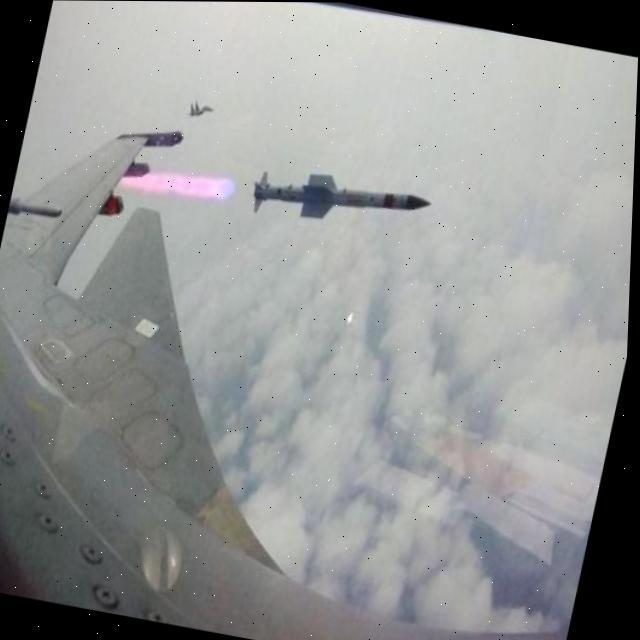missile: (246, 159, 437, 246)
